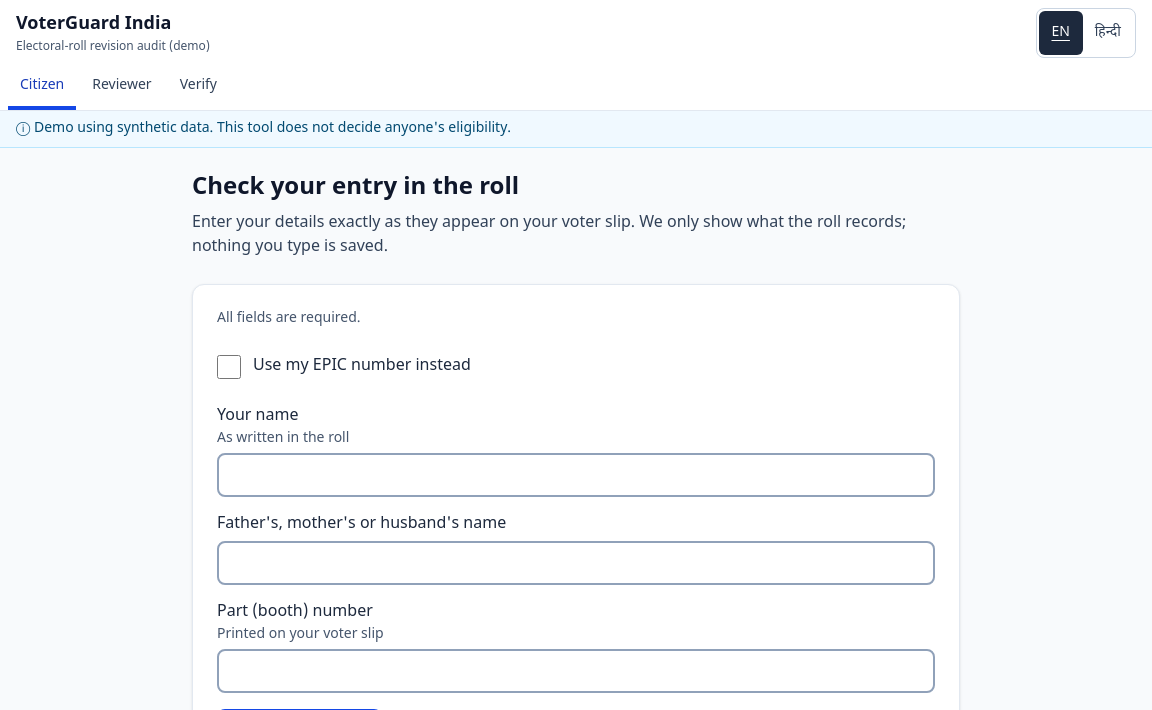
Test case: Citizen page results (mocks) › PRESENT
In the field labelled "Your name": (576, 475) [217,453,935,497], type "Meena Kumari"
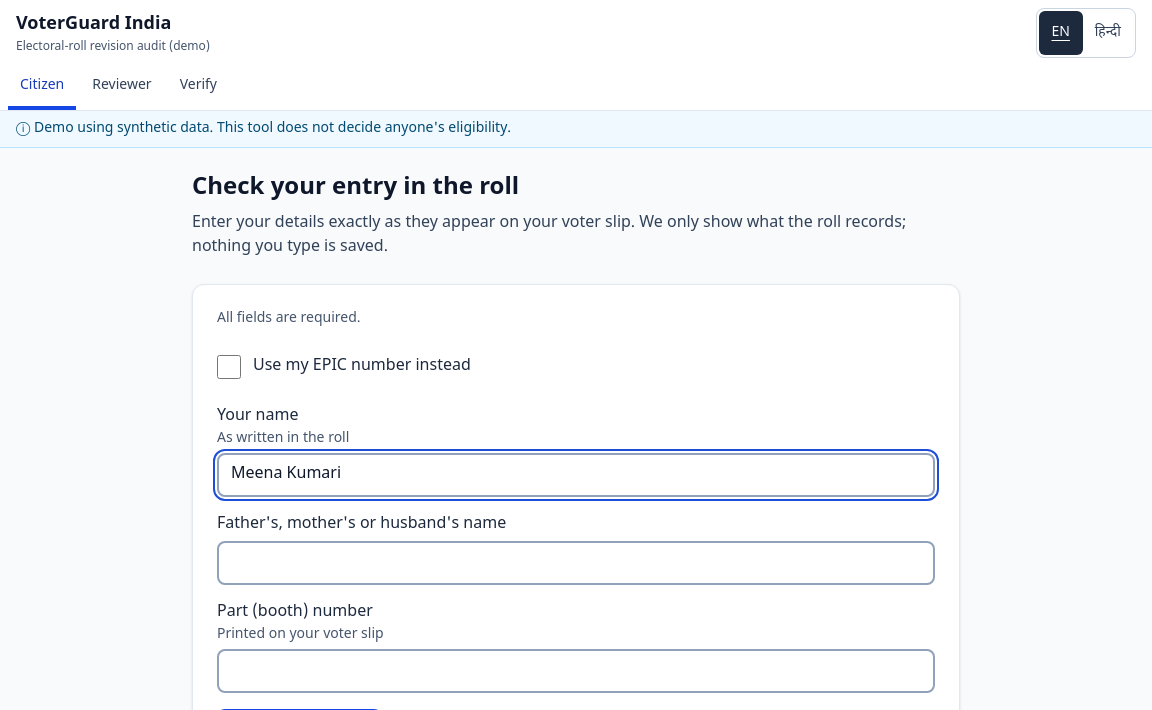
In the field labelled "Father's, mother's or husband's name": (576, 563) [217,541,935,585], type "Ramesh Kumar"
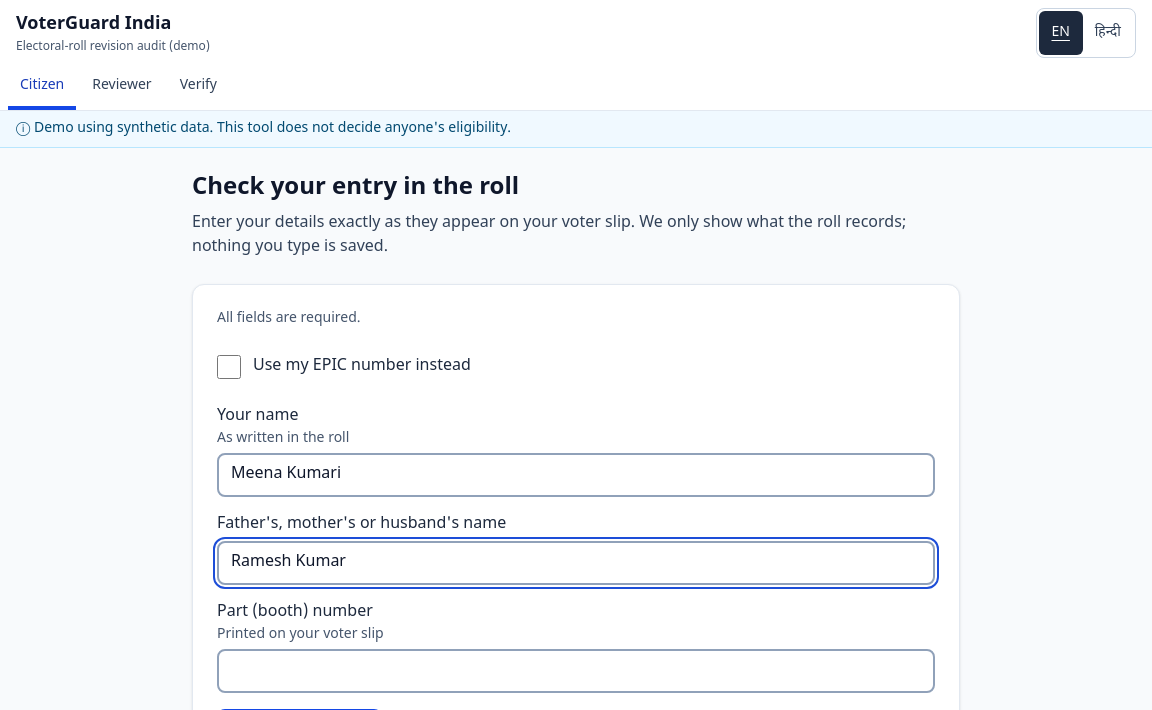
In the field labelled "Part (booth) number": (576, 671) [217,649,935,693], type "17"
(page scrolled)
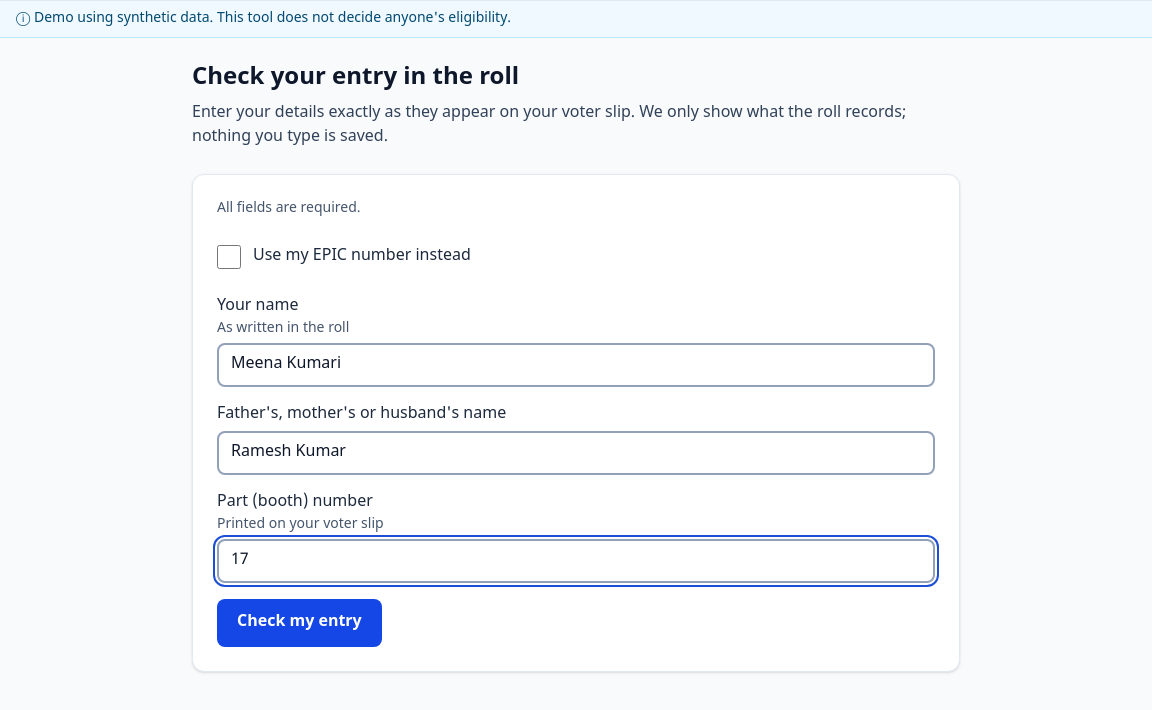
Click the button "Check my entry": (299, 623) [217,599,382,647]
(page scrolled)
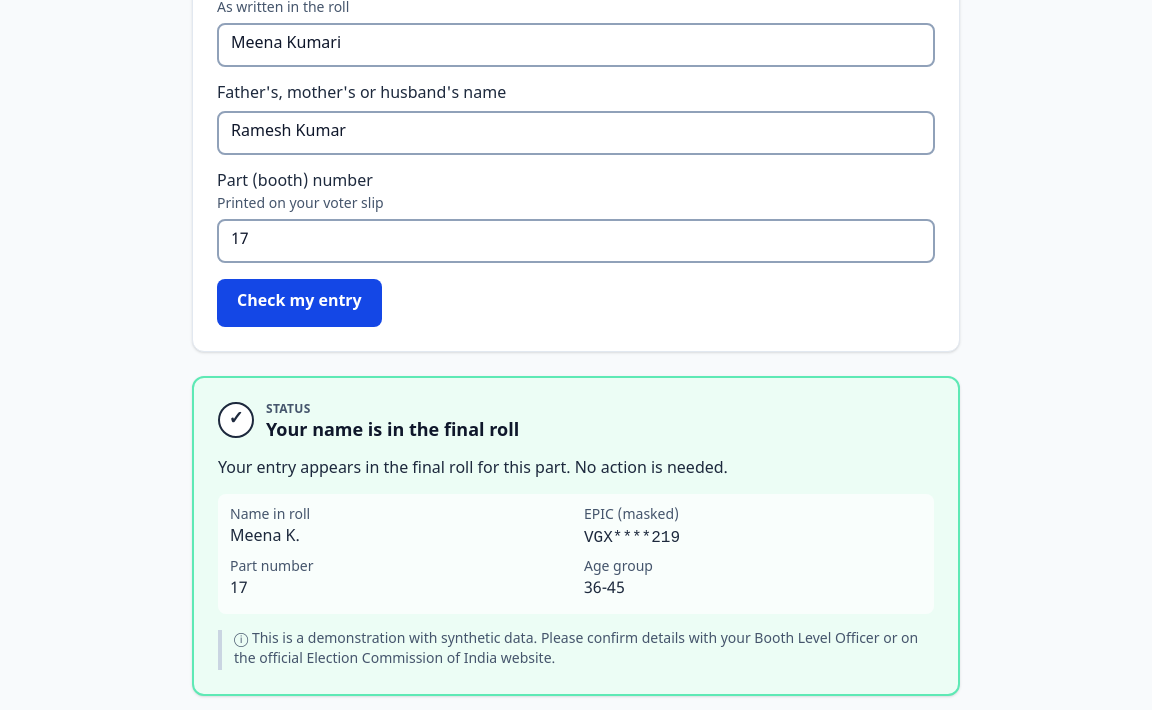
Result: the element that starts with "Status" is shown at [192,376,960,696]
Result: the heading "Your name is in the final roll" is shown at [266,418,519,446]
Result: the text "VGX****219" is shown at [584,529,680,547]
